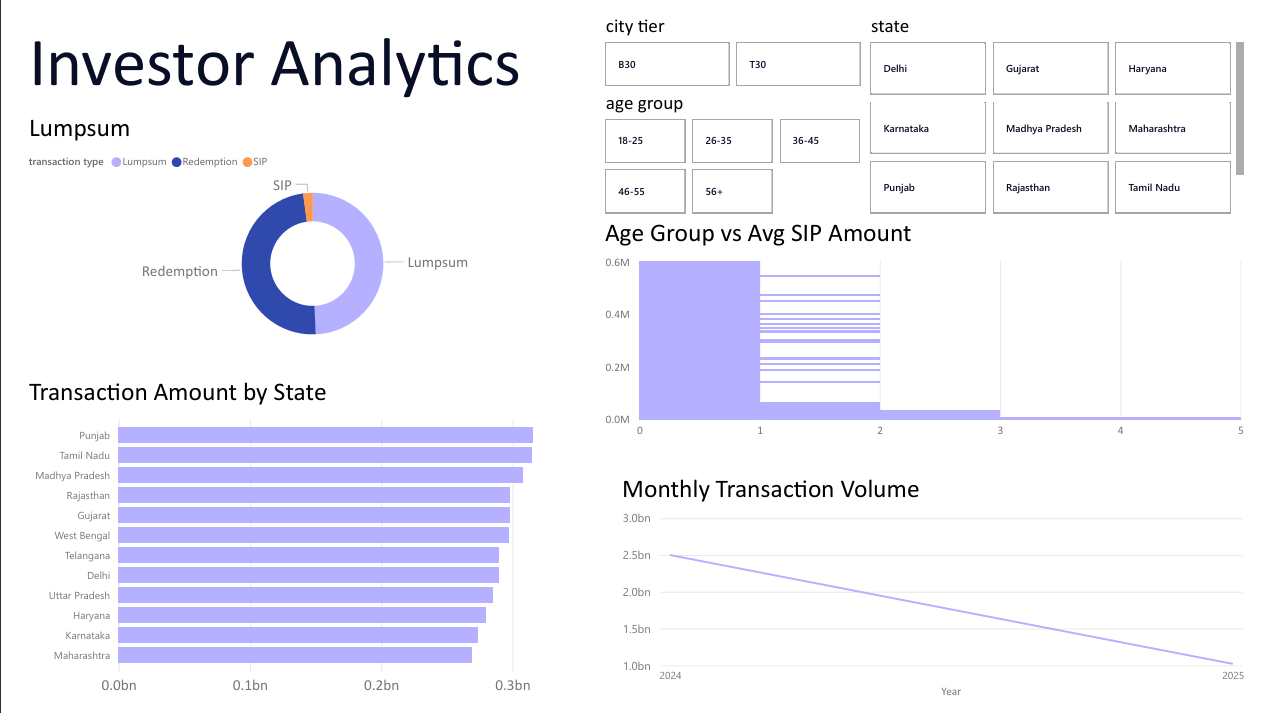

The page's visual inventory and layout, read from the dashboard file:
{"tool":"powerbi","page":{"name":"Investor Analytics","canvas":[1280,720],"ordinal":2},"visuals":[{"type":"clusteredBarChart","title":"Transaction Amount by State","fields":{"Category":["investor_transactions_clean.state"],"Y":["Sum(investor_transactions_clean.amount_inr)"]},"box":[0,377.5,602.5,342.5],"z":0},{"type":"donutChart","title":"Lumpsum","fields":{"Category":["investor_transactions_clean.transaction_type"],"Y":["Avg(investor_transactions_clean.amount_inr)"]},"box":[0,102.5,602.5,257.5],"z":1000},{"type":"clusteredBarChart","title":"Age Group vs Avg SIP Amount","fields":{"Y":["Count(investor_transactions_clean.age_group)"],"Category":["investor_transactions_clean.amount_inr"]},"box":[602,212,678,240],"z":2000},{"type":"lineChart","title":"Monthly Transaction Volume","fields":{"Category":["investor_transactions_clean.transaction_date.Variation.Date Hierarchy.Year","investor_transactions_clean.transaction_date.Variation.Date Hierarchy.Quarter","investor_transactions_clean.transaction_date.Variation.Date Hierarchy.Month","investor_transactions_clean.transaction_date.Variation.Date Hierarchy.Day"],"Y":["Sum(investor_transactions_clean.amount_inr)"]},"box":[620,480,660,240],"z":3000},{"type":"advancedSlicerVisual","fields":{"Values":["investor_transactions_clean.state"]},"box":[880,0,400,212.5],"z":4000},{"type":"advancedSlicerVisual","title":"age group","fields":{"Values":["investor_transactions_clean.age_group"]},"box":[602.5,80,277.5,132.5],"z":5000},{"type":"advancedSlicerVisual","title":"city tier","fields":{"Values":["investor_transactions_clean.city_tier"]},"box":[602.5,0,277.5,80],"z":6000},{"type":"textbox","box":[0,0,542.5,102.5],"z":7000}]}

Visuals, with their boxes in screenshot pixels (x1, y1, x2, y2), scaled from the page's 1280x720 canvas onto the 1270x713 screenshot:
"Transaction Amount by State" clusteredBarChart: 0 374 598 712
"Lumpsum" donutChart: 0 102 598 356
"Age Group vs Avg SIP Amount" clusteredBarChart: 597 210 1269 448
"Monthly Transaction Volume" lineChart: 615 475 1269 712
advancedSlicerVisual - investor_transactions_clean.state: 873 0 1269 210
"age group" advancedSlicerVisual: 598 79 873 210
"city tier" advancedSlicerVisual: 598 0 873 79
textbox: 0 0 538 102
